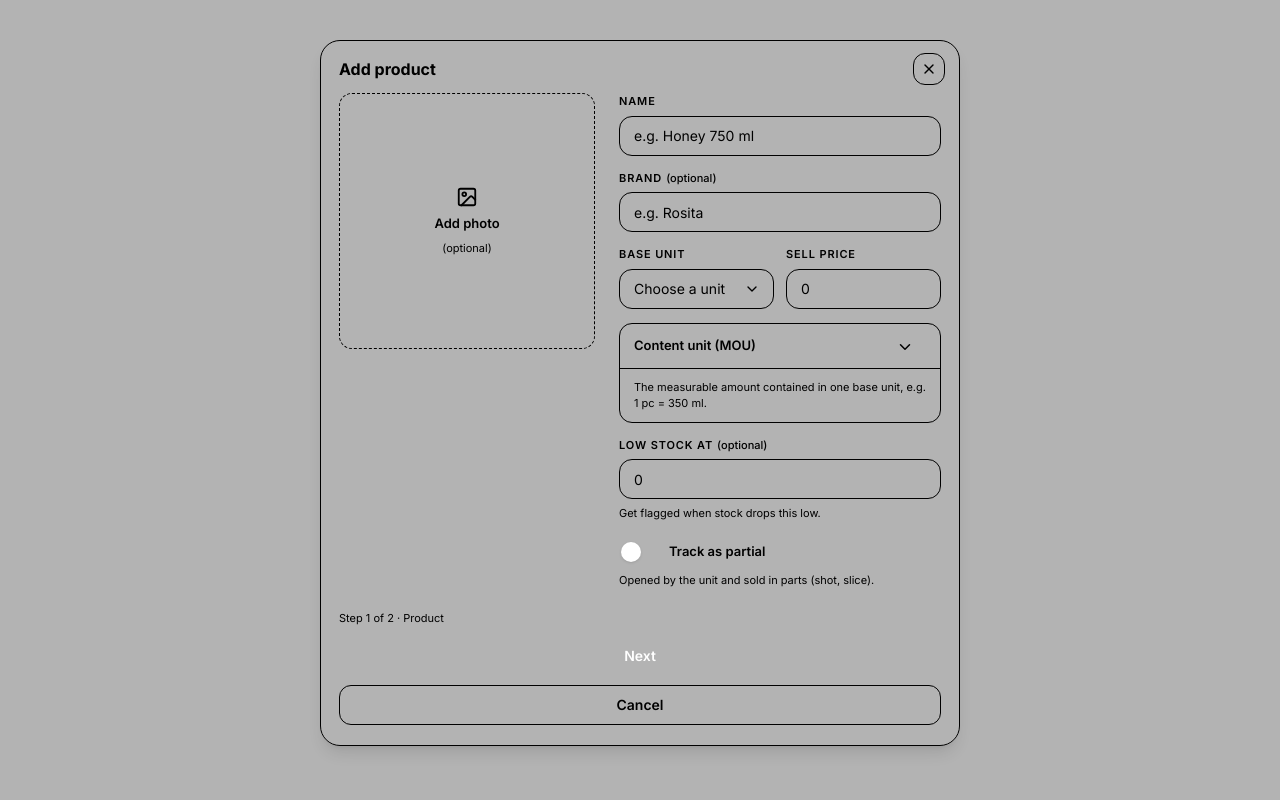
Scenario: AddProductDialog › flags a content unit that matches the base unit
expect the text "Content unit (MOU)" is shown: met, box [634,336,756,355]
Step 1. Type "Honey" into the field labelled "Name" → (780, 136), box [619,116,941,156]
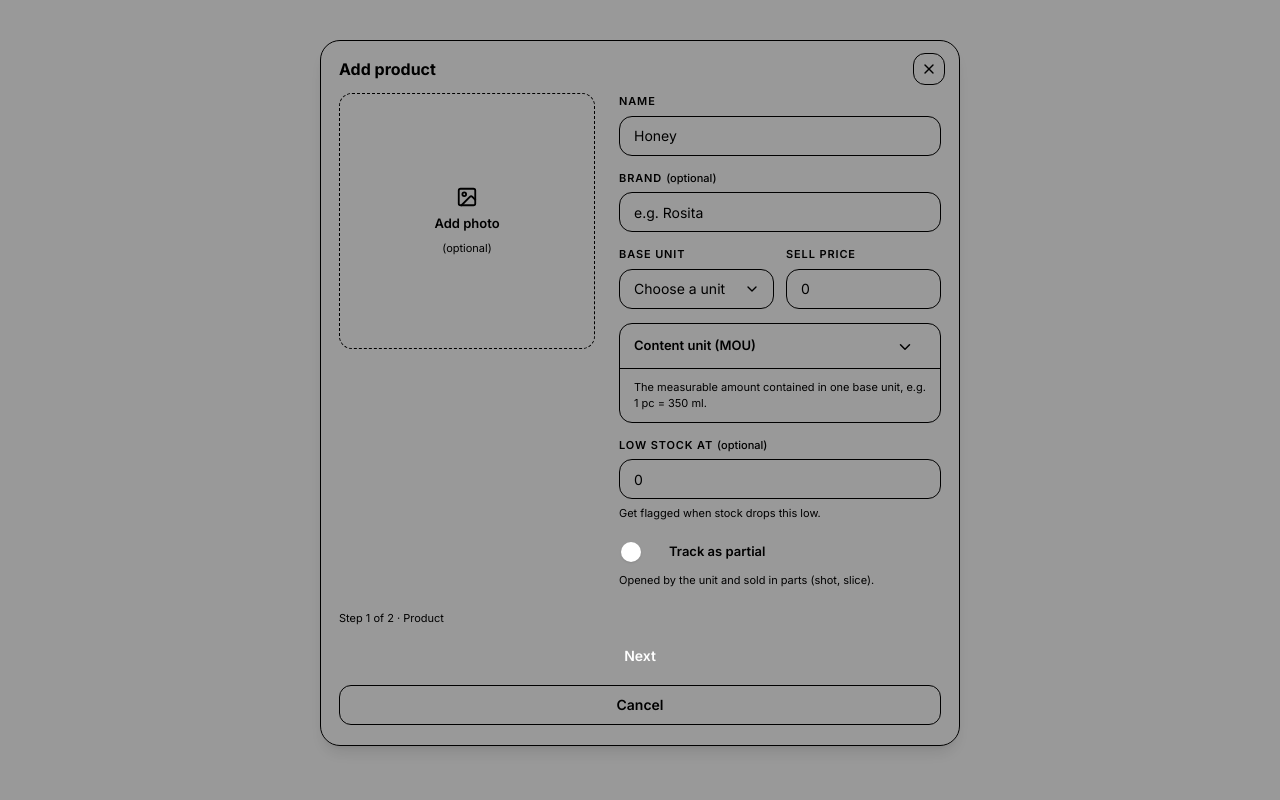
Step 2. Type "250" into the field labelled "Sell price" → (864, 288), box [786,268,941,308]
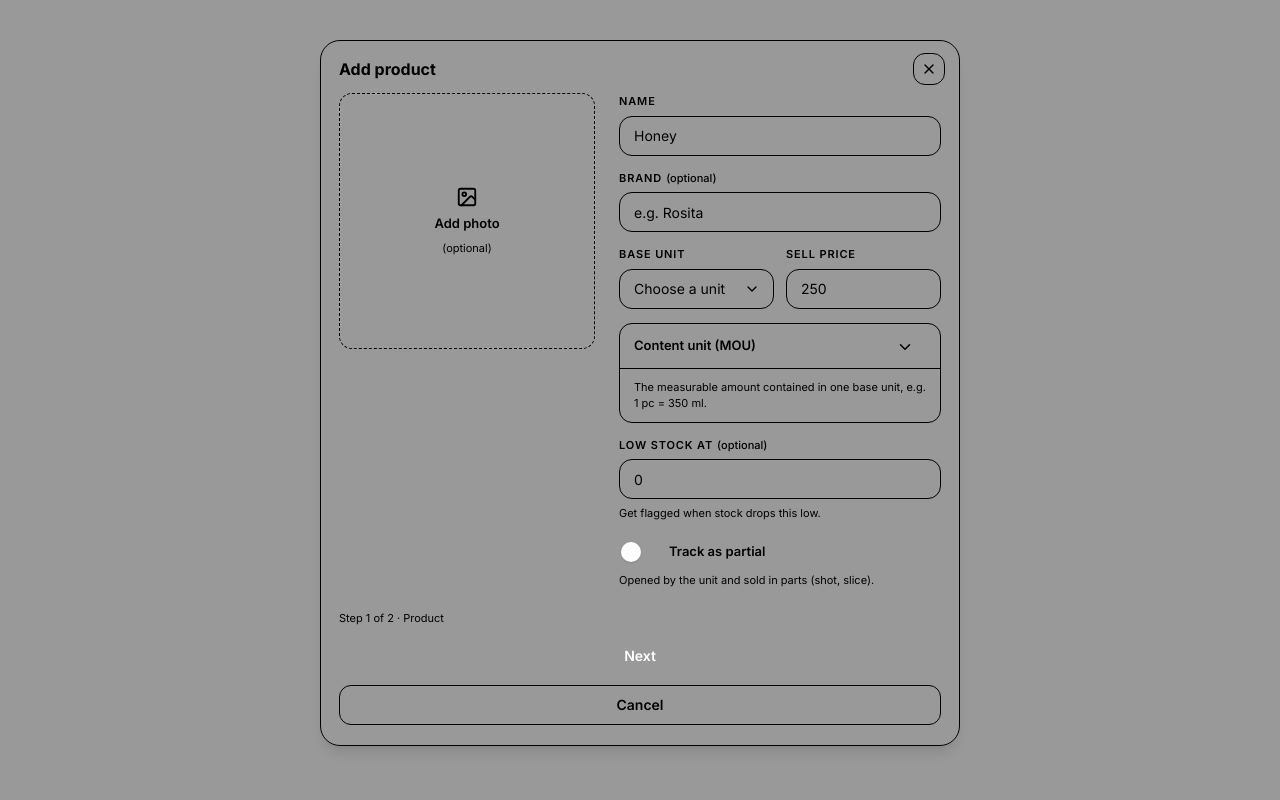
Step 3. Select "Kilogram (kg)" in the dropdown labelled "Base unit" → (696, 288), box [619,268,774,308]
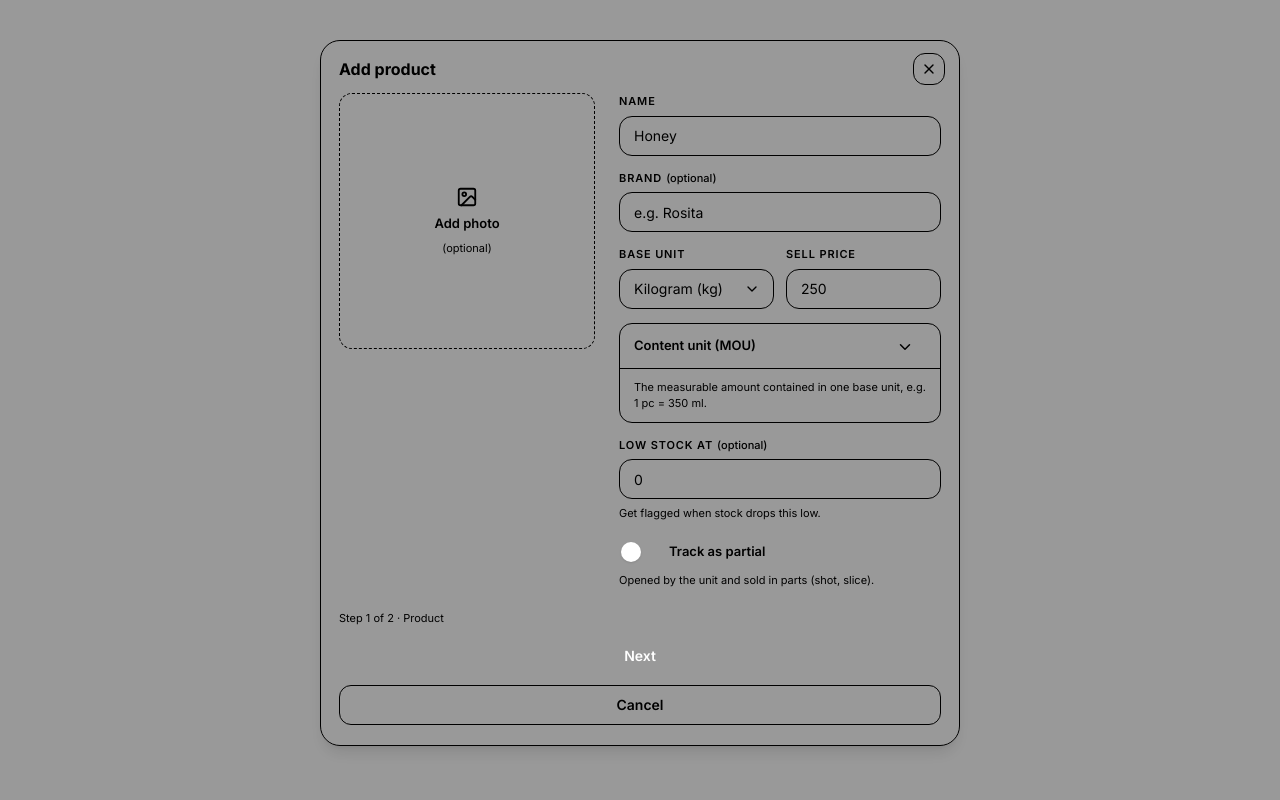
Step 4. Click the button "Content unit (MOU)" → (695, 344), box [620,324,928,368]
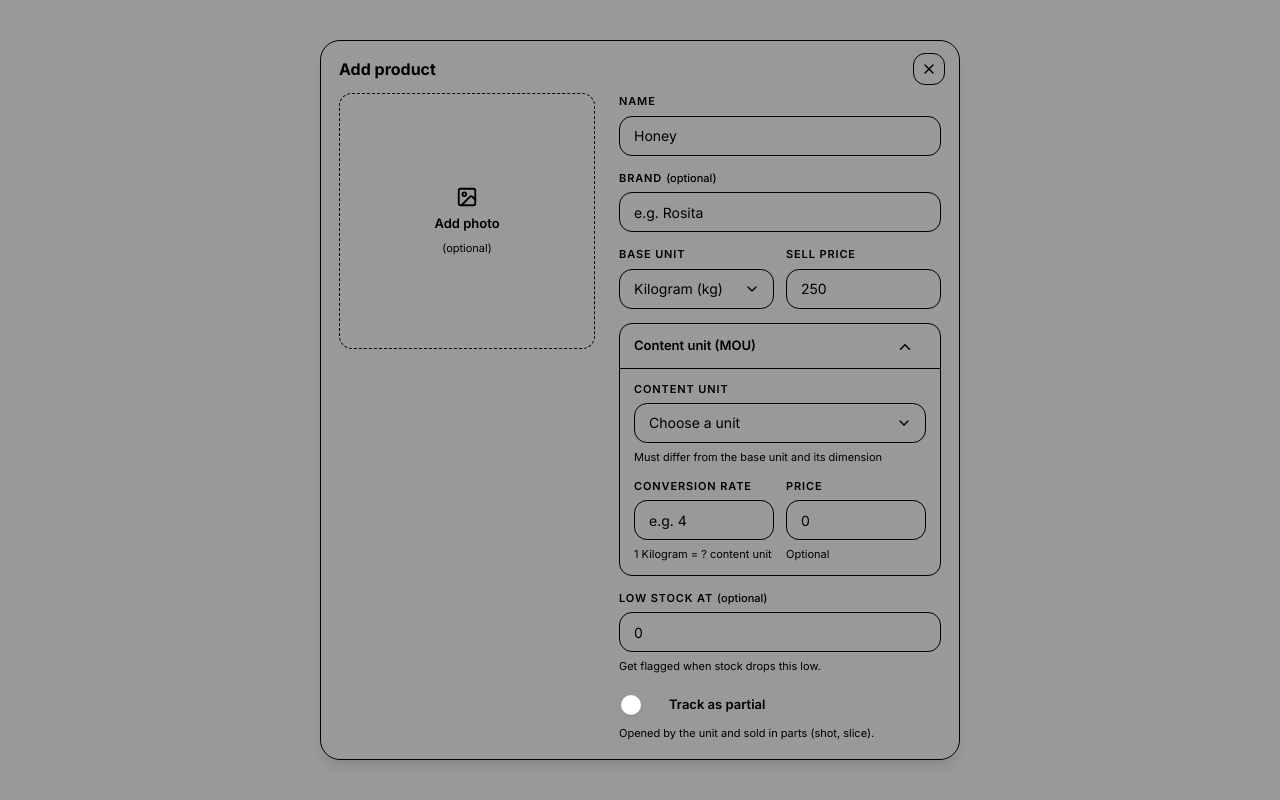
Step 5. Select "Kilogram (kg)" in the dropdown labelled "Content unit" → (780, 423), box [634,403,926,443]
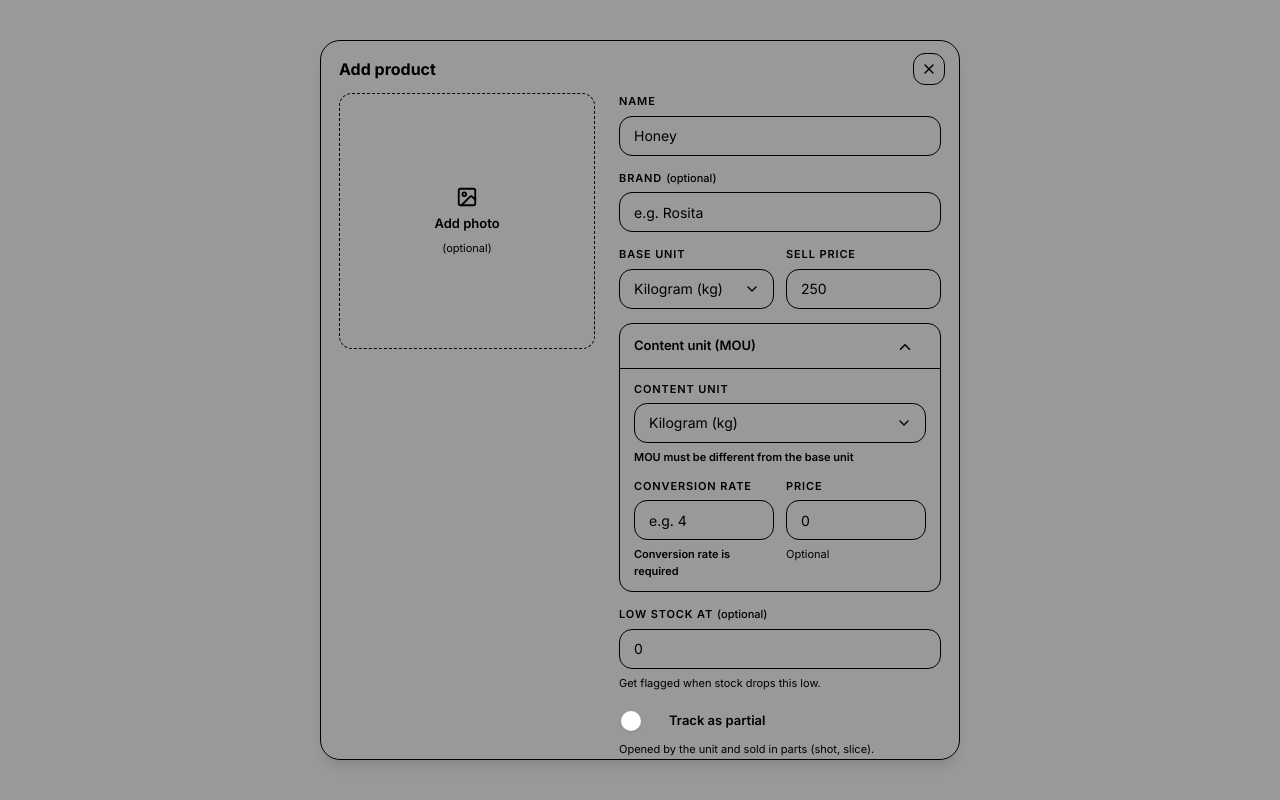
expect the message "MOU must be different from the base unit" is shown: met, box [634,450,854,464]
